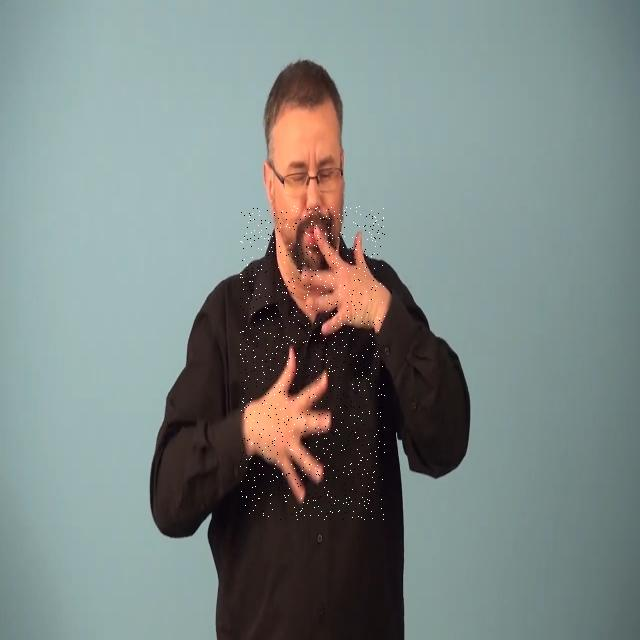juicy: (240, 206, 385, 520)
